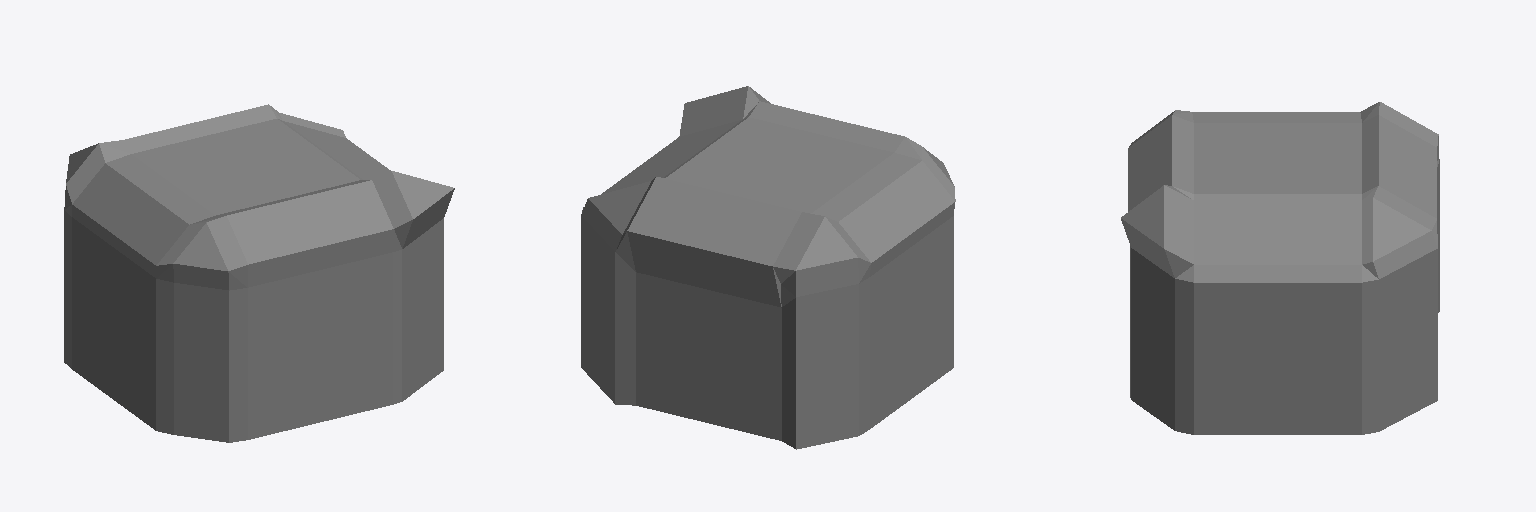
The picture shows the model from 3 angles: view 1: azimuth 30°, elevation 25°; view 2: azimuth 150°, elevation 25°; view 3: azimuth 270°, elevation 25°; orthographic projection.
Parts seen in each view (by area): view 1: Cube; view 2: Cube; view 3: Cube.
Part boxes in pixels (left/top/right/bottom): Cube: left=64, top=104, right=454, bottom=442; Cube: left=581, top=86, right=955, bottom=449; Cube: left=1121, top=102, right=1439, bottom=434.
Bounding box in the file's own units: 3.95 × 2.86 × 3.79.
Materials: 1 (1 with a texture image).